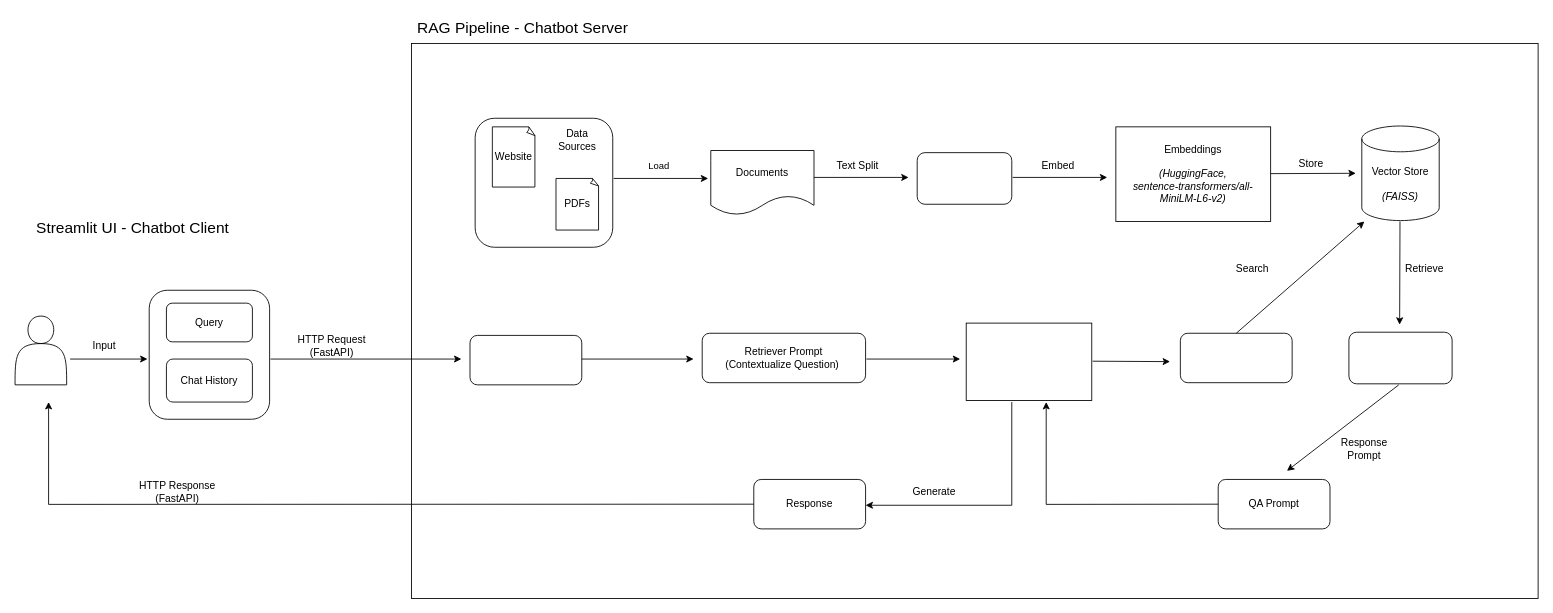
This 1553x613 diagram has some shape labels left out. Here are the shapes that lost their labels. From the top down, the centre of each, then its label:
the point at 964,178: Chunks
the point at 525,360: Query, Chat History
the point at 1028,361: LLM (ChatGroq, llama3-8b-8192)
the point at 1235,357: Retriever Chain
the point at 1400,357: Relevant Context (Chunks)
